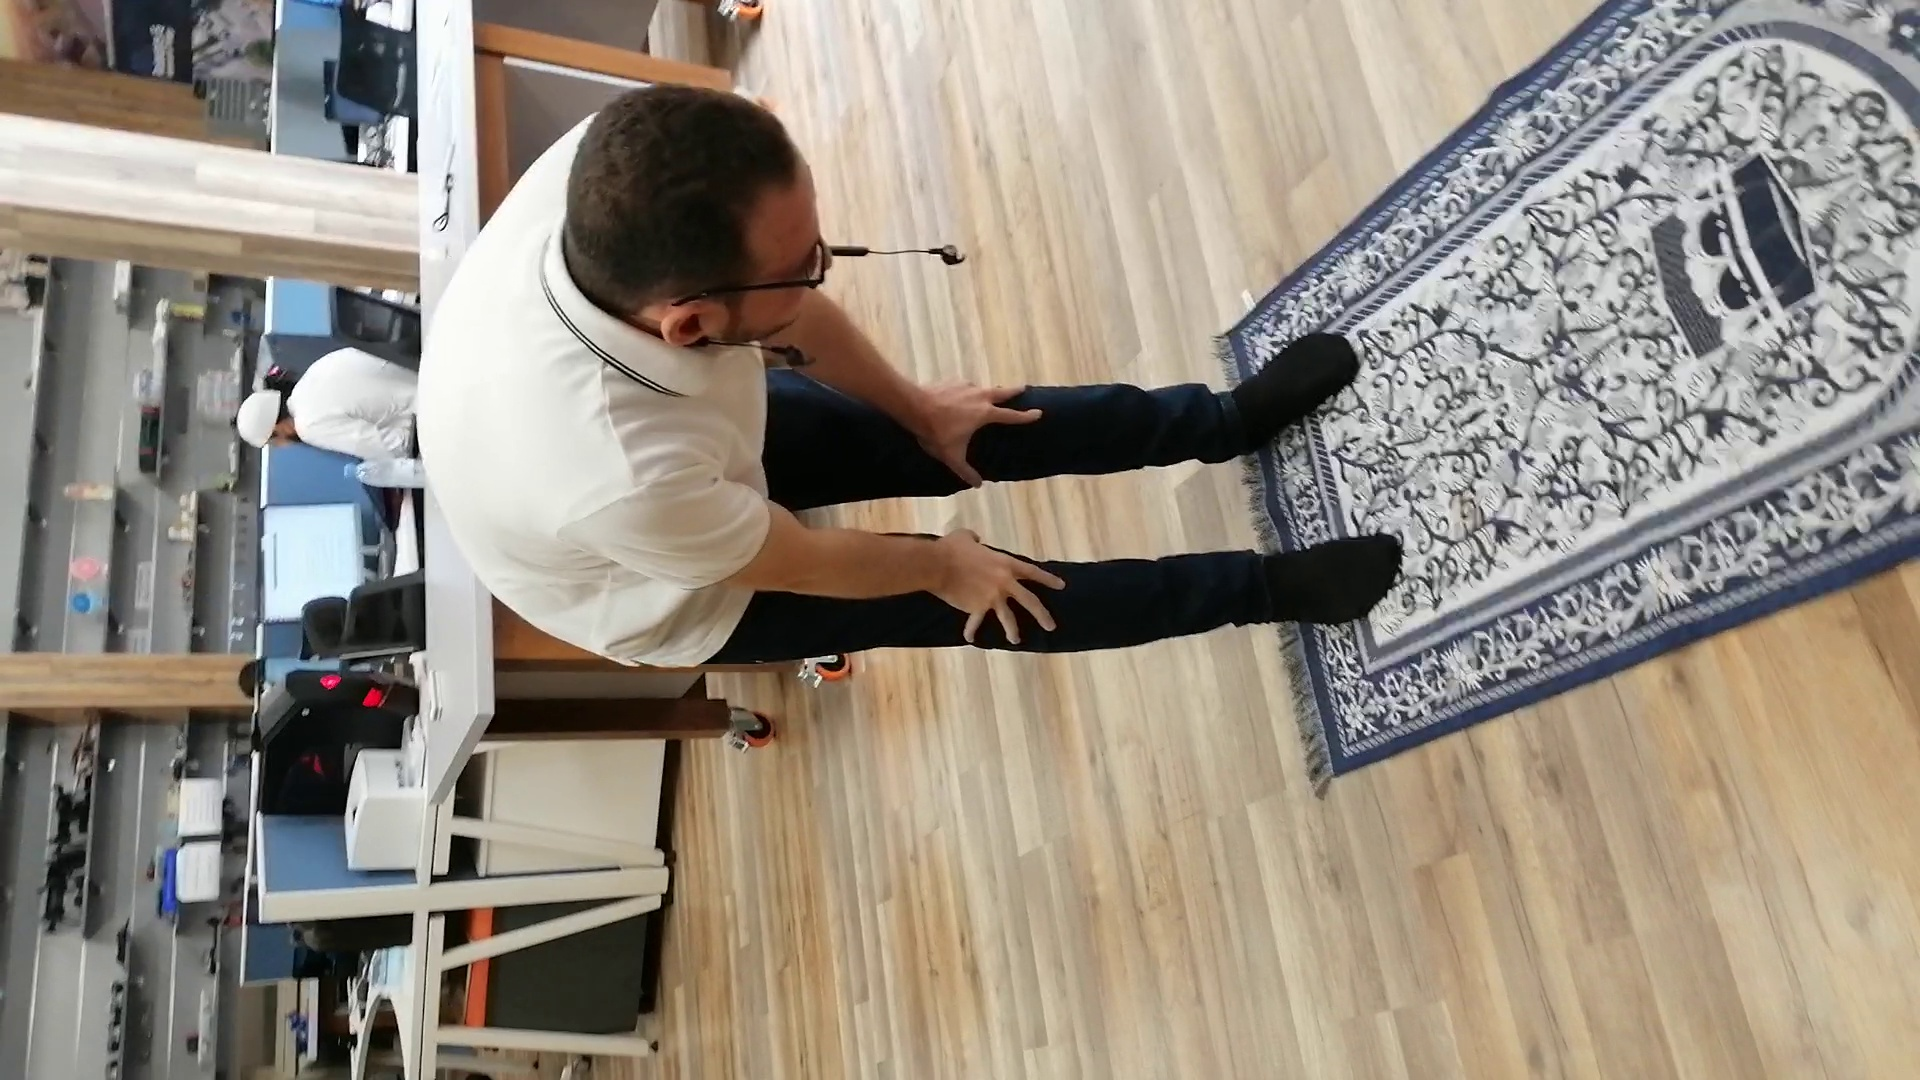ruku: (88, 47, 1502, 760)
